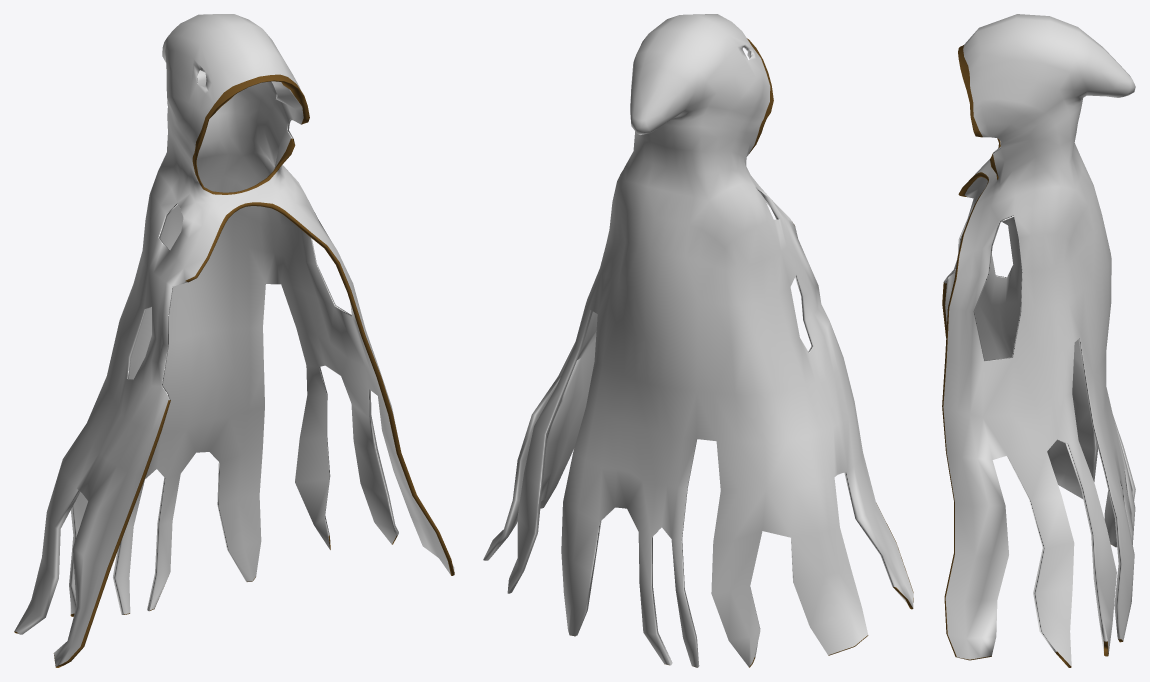
Rendered from tatteredCloak.glb.
3 views of the same model, side by side, from view 1: azimuth 30°, elevation 25°; view 2: azimuth 150°, elevation 25°; view 3: azimuth 270°, elevation 25° (orthographic). The views are drawn at different scales.
Visible parts, largest first — view 1: Tattered Cloak; view 2: Tattered Cloak; view 3: Tattered Cloak.
Part boxes in pixels (x1,y1,x2,y2): Tattered Cloak: (14, 14, 454, 667); Tattered Cloak: (483, 14, 913, 667); Tattered Cloak: (942, 14, 1135, 667).
Size of the model in its own units: 3.42 by 5.05 by 1.5.
